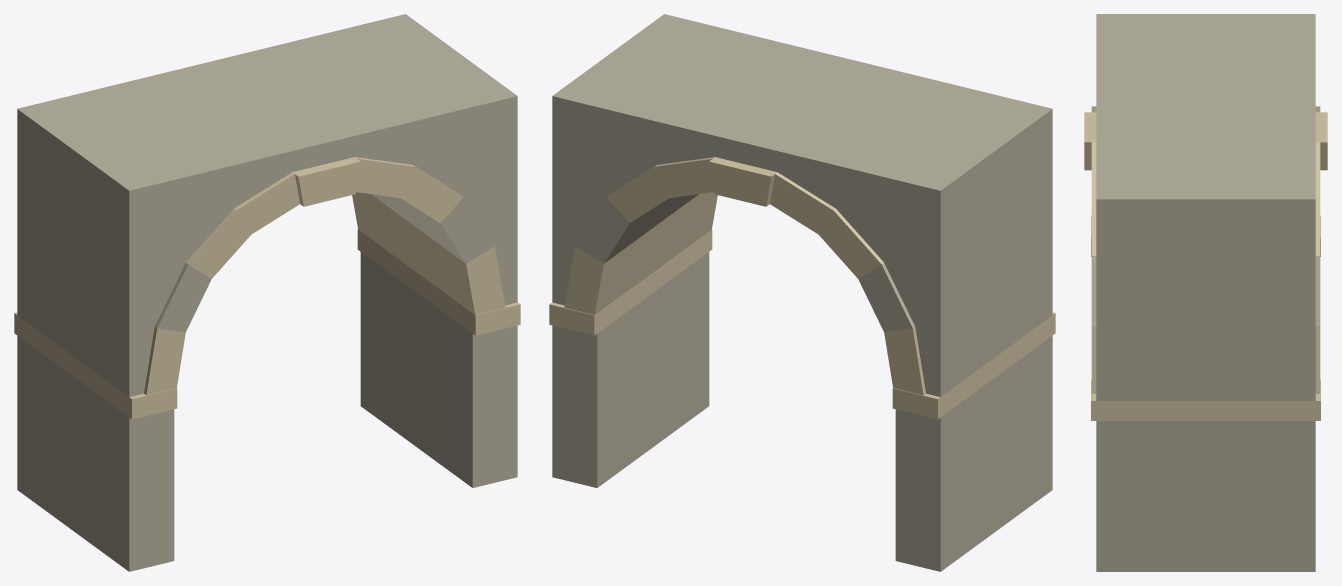
Rendered from gate_passage.glb.
3 views of the same model, side by side, from view 1: azimuth 30°, elevation 25°; view 2: azimuth 150°, elevation 25°; view 3: azimuth 270°, elevation 25° (orthographic). The views are drawn at different scales.
Visible parts, largest first — view 1: Gate passage; view 2: Gate passage; view 3: Gate passage.
Boxes of the visible parts, <box> form: Gate passage: <box>14,14,520,571</box>; Gate passage: <box>549,14,1055,571</box>; Gate passage: <box>1084,14,1327,571</box>.
Size of the model in its own units: 2 by 1.88 by 1.11.
